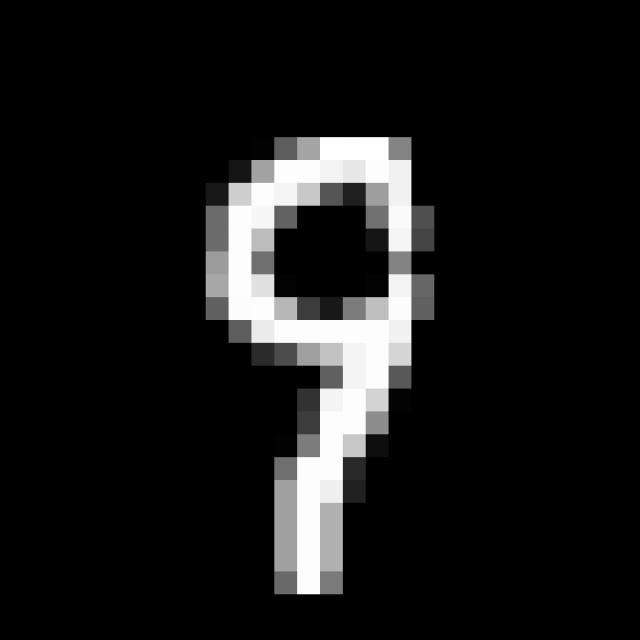nine -9-: (203, 130, 442, 606)
